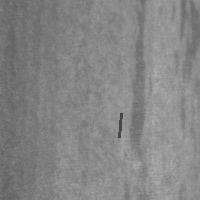inclusion: (127, 1, 152, 179), (173, 1, 199, 91), (176, 81, 192, 148), (117, 111, 123, 139)
